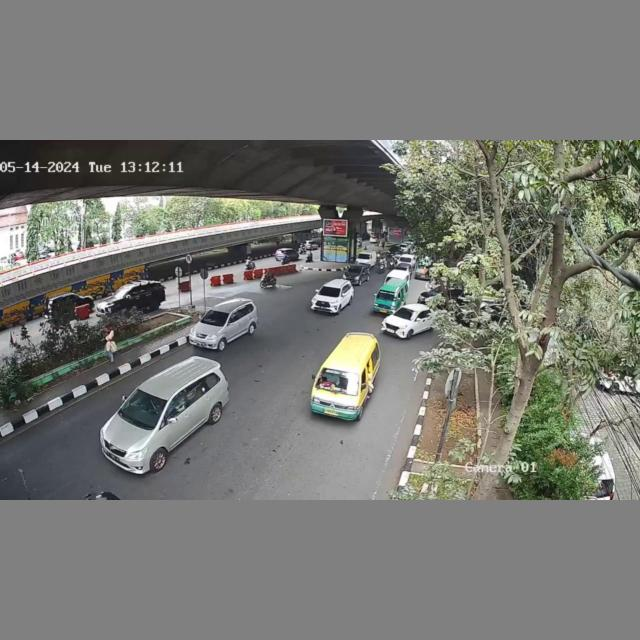windshield: (120, 390, 167, 427), (316, 367, 360, 397), (199, 311, 231, 324)
